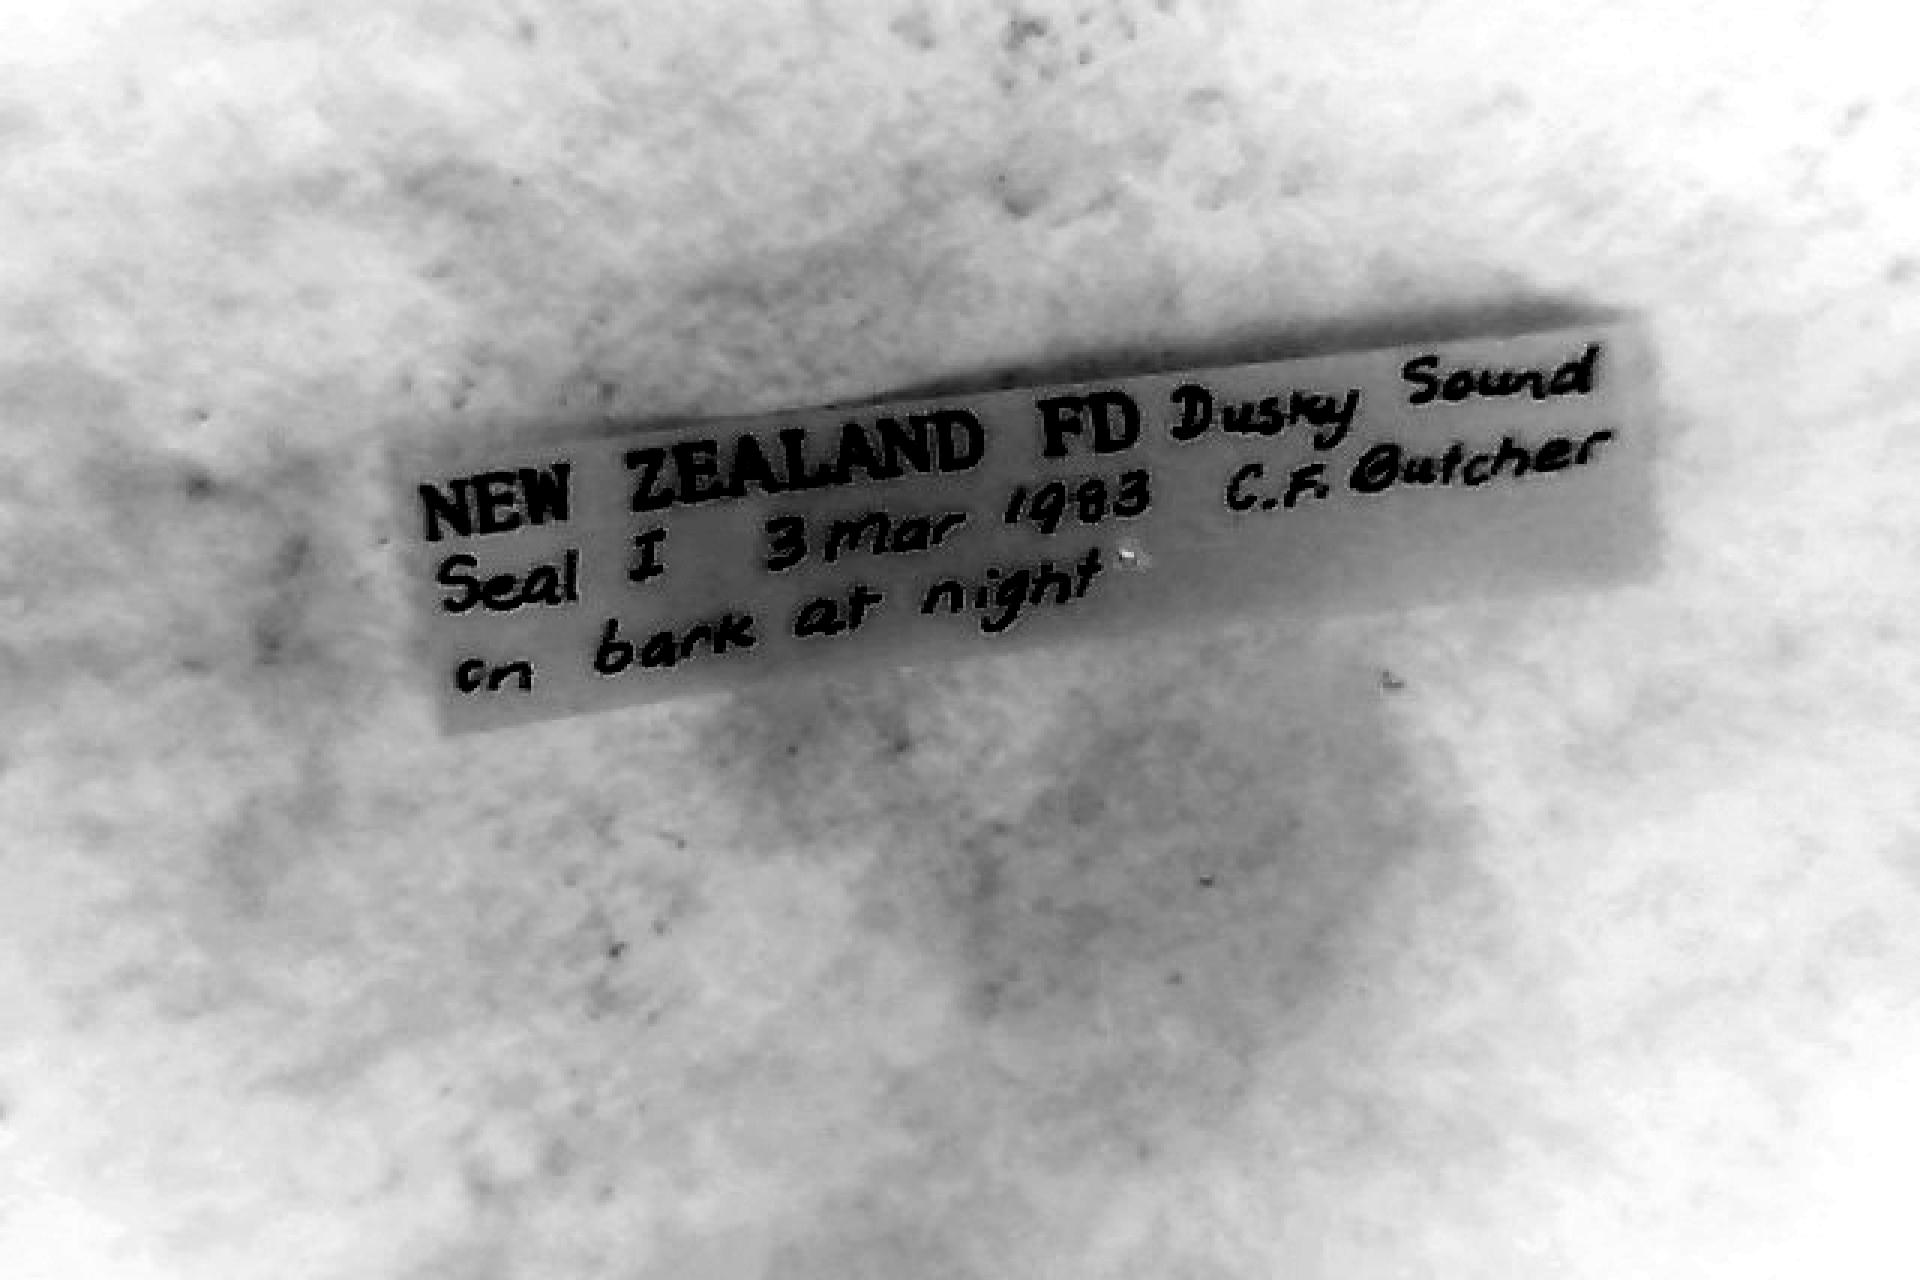mixed_label: (412, 320, 1658, 730)
